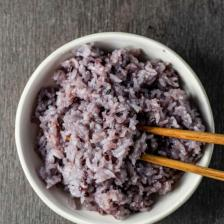rice: (32, 41, 206, 220)
